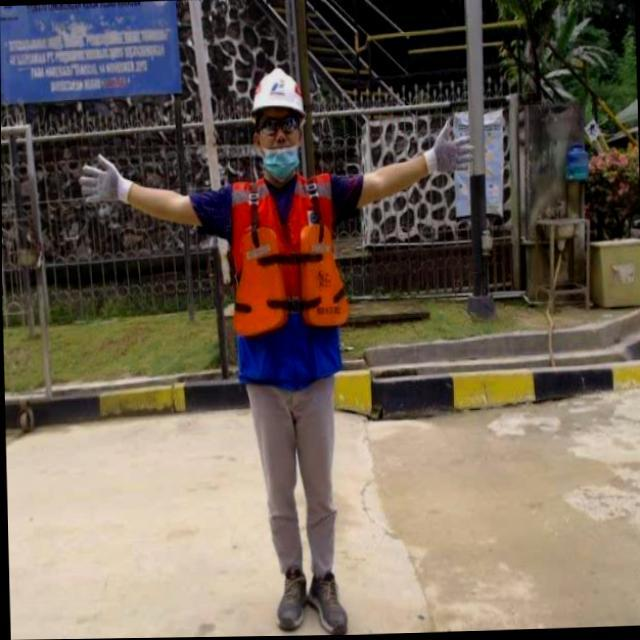goggles_on: (254, 112, 303, 138)
